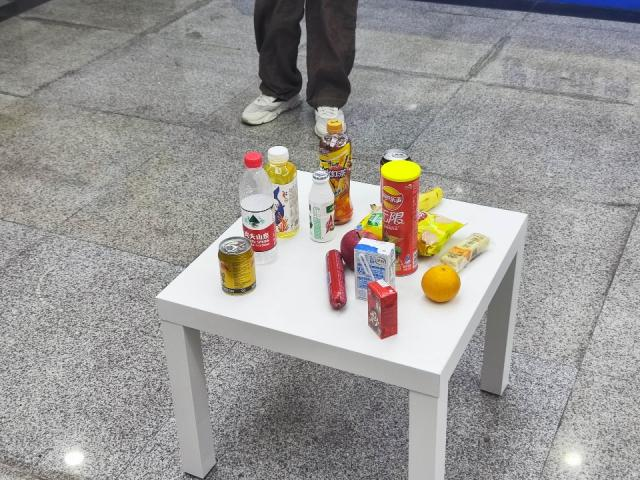Canned_drinks: (217, 236, 259, 299)
bottle: (239, 149, 282, 265)
cylinder: (386, 164, 419, 276)
drink_box: (356, 237, 391, 294)
